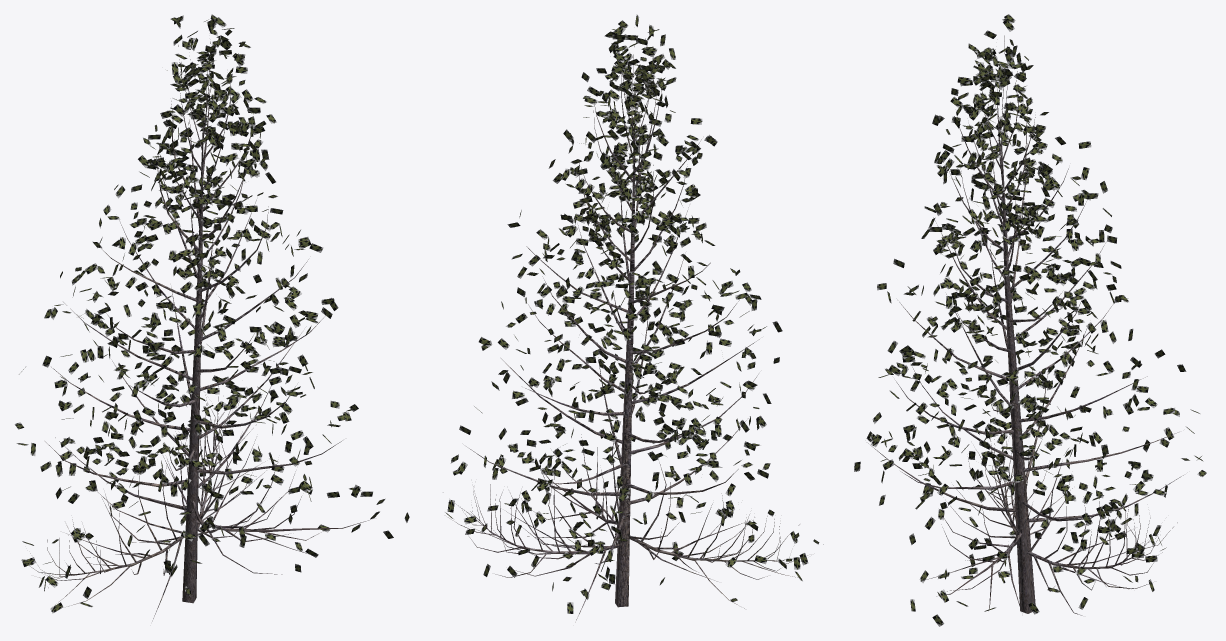
The model's file is treeset2.glb.
The picture shows the model from 3 angles, left to right: view 1: azimuth 30°, elevation 25°; view 2: azimuth 150°, elevation 25°; view 3: azimuth 270°, elevation 25°; orthographic projection. The views are drawn at different scales.
Visible parts, largest first — view 1: leaves.001, tree.001; view 2: leaves.001, tree.001; view 3: leaves.001, tree.001.
Boxes of the visible parts, <box> form: leaves.001: <box>14,14,409,613</box>; tree.001: <box>30,41,370,621</box>; leaves.001: <box>445,14,819,613</box>; tree.001: <box>443,36,823,622</box>; leaves.001: <box>854,14,1206,626</box>; tree.001: <box>868,35,1183,615</box>.
Size of the model in its own units: 10.98 by 17.64 by 9.78.
2 materials, 2 textured.
